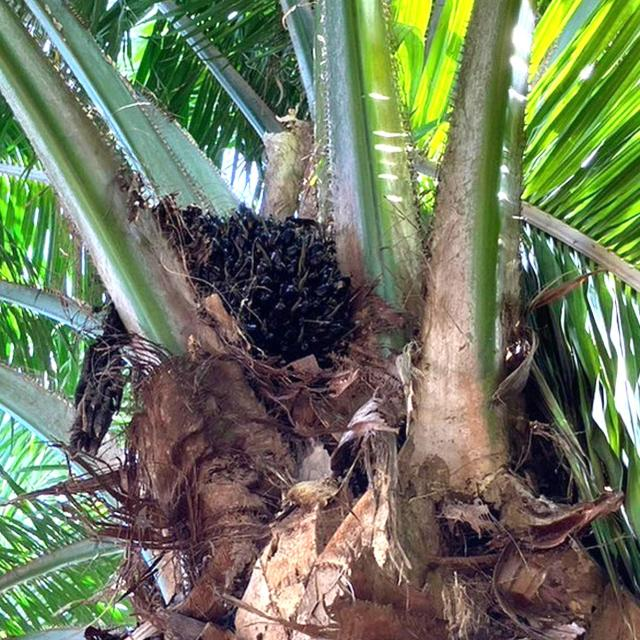unripe: (166, 202, 357, 372)
